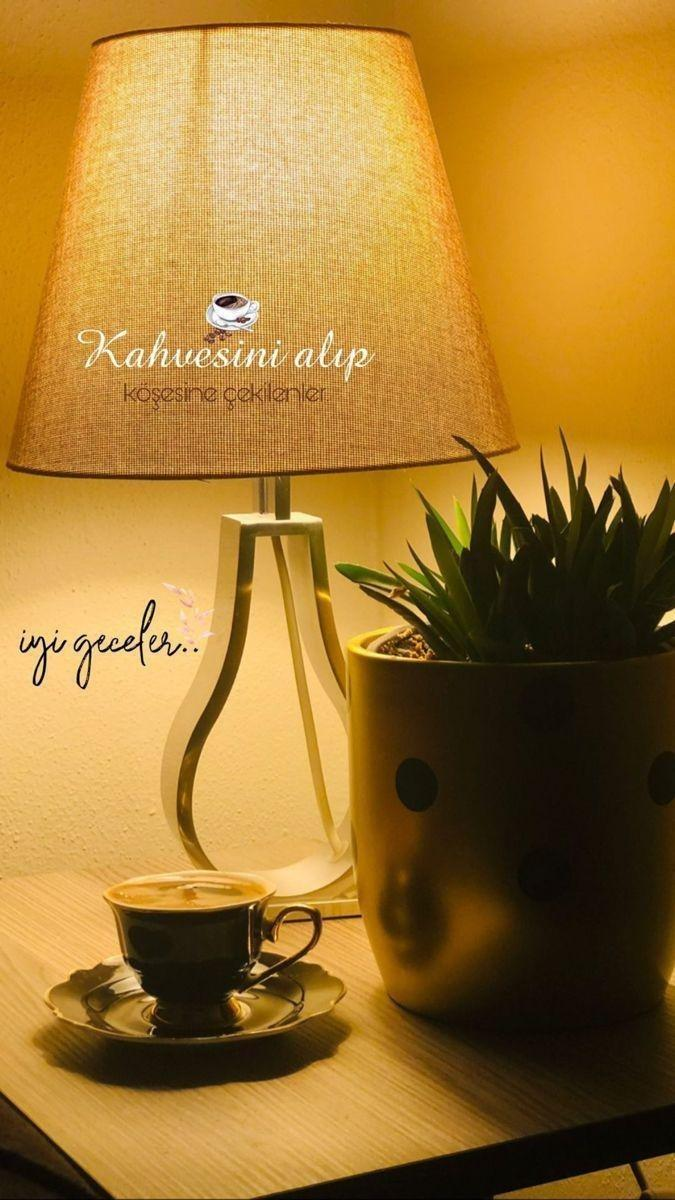cup-handle: (104, 876, 322, 1036)
